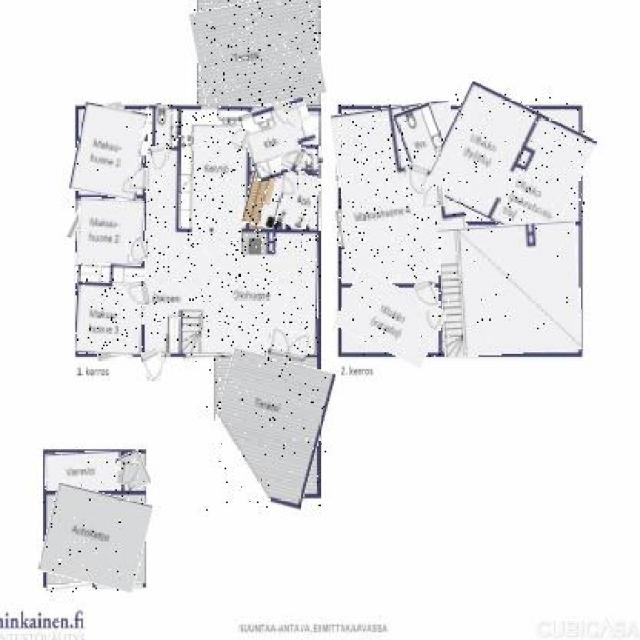door: (268, 329, 309, 363), (143, 349, 168, 383), (405, 164, 429, 196), (280, 148, 306, 175), (417, 280, 438, 311), (126, 280, 149, 308), (126, 239, 146, 263), (117, 462, 138, 484), (423, 186, 445, 206), (285, 104, 303, 128), (151, 146, 169, 169), (232, 128, 251, 149), (129, 169, 146, 191), (280, 176, 297, 196), (288, 153, 300, 170)
window: (183, 348, 220, 362), (226, 348, 259, 363), (71, 200, 83, 240), (96, 582, 142, 592), (97, 349, 132, 362), (46, 583, 92, 592), (94, 101, 121, 114), (337, 211, 343, 249), (337, 145, 343, 180)
zone: (145, 104, 320, 356), (337, 105, 466, 283), (430, 94, 588, 235), (206, 354, 328, 511), (440, 222, 580, 356), (194, 0, 321, 108), (41, 489, 148, 588), (337, 278, 443, 358), (74, 104, 148, 198), (77, 264, 145, 354), (243, 100, 320, 178), (77, 197, 145, 285), (397, 104, 445, 170), (45, 452, 123, 491), (278, 172, 318, 228), (245, 169, 283, 226), (143, 104, 183, 150), (118, 451, 150, 489), (298, 146, 318, 174)
